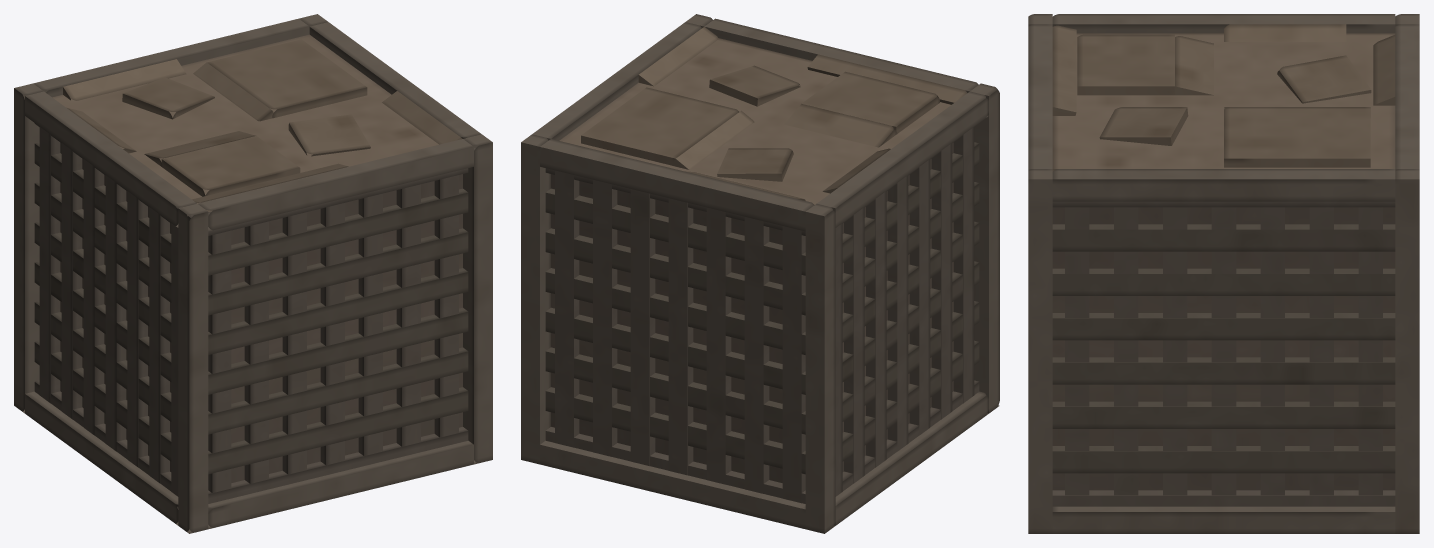
File: militarybarrier.obj
The picture shows the model from 3 angles, left to right: view 1: azimuth 30°, elevation 25°; view 2: azimuth 150°, elevation 25°; view 3: azimuth 270°, elevation 25°; orthographic projection. The views are drawn at different scales.
Parts seen in each view (by area): view 1: baseModel0, baseModel10, baseModel11, baseModel4, baseModel16, baseModel17, baseModel15, baseModel18, baseModel19, baseModel14, baseModel9, baseModel36 (+29 smaller); view 2: baseModel0, baseModel9, baseModel12, baseModel1, baseModel10, baseModel36, baseModel8, baseModel25, baseModel24, baseModel23, baseModel22, baseModel2 (+28 smaller); view 3: baseModel0, baseModel3, baseModel7, baseModel12, baseModel11, baseModel36, baseModel14, baseModel17, baseModel16, baseModel18, baseModel19, baseModel15 (+19 smaller).
Part boxes in pixels (bbox=[...]): baseModel0: bbox=[52, 34, 462, 482]; baseModel10: bbox=[178, 203, 208, 533]; baseModel11: bbox=[463, 134, 492, 464]; baseModel4: bbox=[198, 139, 473, 231]; baseModel16: bbox=[34, 221, 468, 354]; baseModel17: bbox=[34, 261, 468, 394]; baseModel15: bbox=[34, 182, 468, 315]; baseModel18: bbox=[34, 301, 468, 434]; baseModel19: bbox=[34, 340, 468, 474]; baseModel14: bbox=[34, 142, 468, 275]; baseModel9: bbox=[14, 83, 43, 413]; baseModel36: bbox=[207, 39, 367, 118]; baseModel0: bbox=[551, 38, 953, 482]; baseModel9: bbox=[805, 203, 835, 533]; baseModel12: bbox=[521, 134, 550, 464]; baseModel1: bbox=[540, 139, 814, 231]; baseModel10: bbox=[970, 83, 999, 413]; baseModel36: bbox=[581, 87, 738, 165]; baseModel8: bbox=[540, 440, 805, 529]; baseModel25: bbox=[630, 189, 655, 466]; baseModel24: bbox=[668, 198, 693, 475]; baseModel23: bbox=[706, 207, 731, 484]; baseModel22: bbox=[744, 217, 769, 493]; baseModel2: bbox=[817, 91, 988, 227]; baseModel0: bbox=[1052, 33, 1395, 490]; baseModel3: bbox=[1052, 169, 1395, 201]; baseModel7: bbox=[1052, 506, 1395, 533]; baseModel12: bbox=[1395, 169, 1419, 533]; baseModel11: bbox=[1028, 169, 1052, 533]; baseModel36: bbox=[1224, 107, 1370, 167]; baseModel14: bbox=[1052, 224, 1395, 251]; baseModel17: bbox=[1052, 357, 1395, 384]; baseModel16: bbox=[1052, 313, 1395, 340]; baseModel18: bbox=[1052, 401, 1395, 428]; baseModel19: bbox=[1052, 446, 1395, 473]; baseModel15: bbox=[1052, 268, 1395, 295].
Bounding box in the file's own units: 16 × 16.4 × 16.
